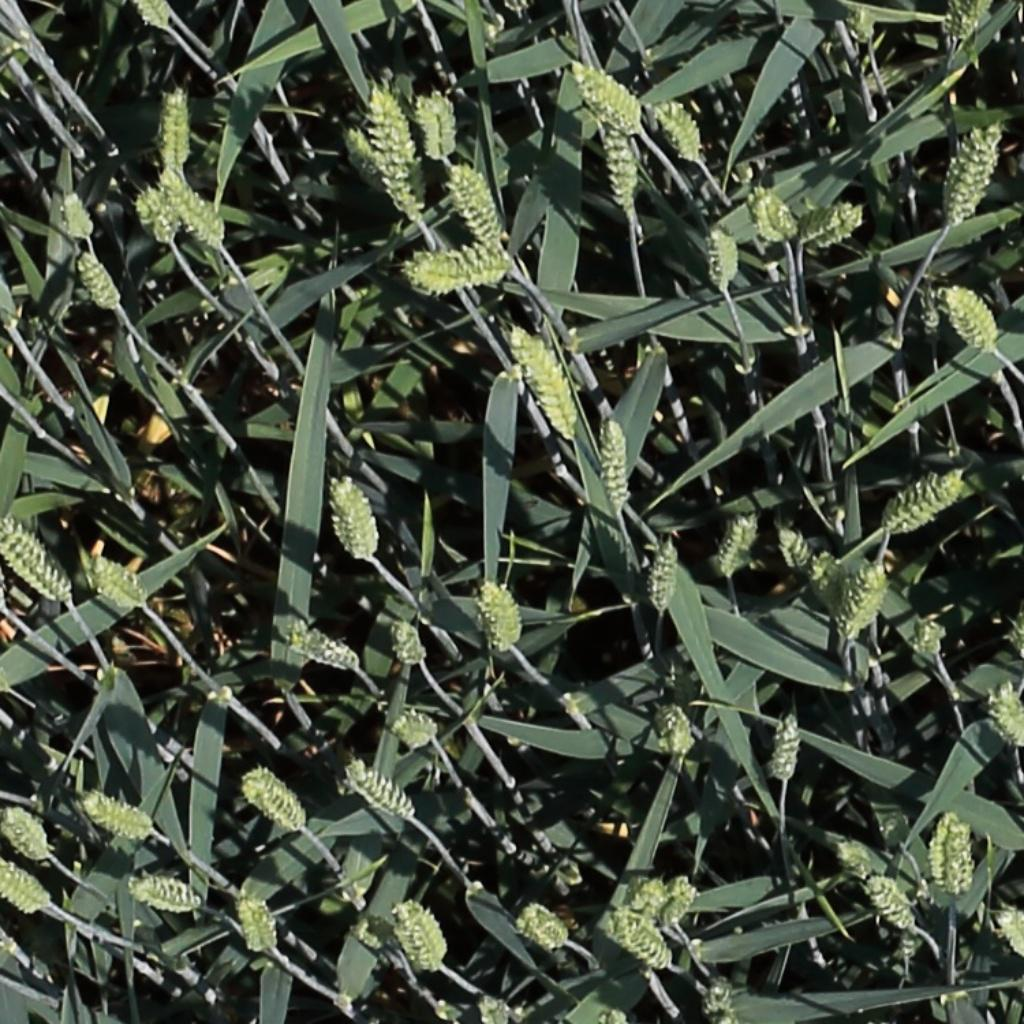0-0: (510, 322, 581, 441), (370, 84, 421, 217), (0, 517, 73, 604), (944, 120, 1000, 226), (158, 165, 229, 248), (887, 466, 968, 535), (570, 61, 645, 135), (447, 159, 506, 249), (409, 246, 515, 296), (346, 760, 417, 824), (610, 906, 675, 972), (845, 554, 894, 640), (943, 281, 1002, 352), (334, 473, 379, 566), (652, 92, 708, 165), (243, 774, 308, 835), (341, 120, 393, 196), (393, 897, 442, 977), (73, 244, 124, 315), (286, 623, 360, 671), (866, 875, 922, 937), (81, 795, 155, 841), (750, 178, 800, 245), (480, 576, 520, 659), (90, 554, 150, 608), (0, 805, 53, 866), (718, 507, 759, 584), (606, 113, 637, 214), (931, 808, 963, 901), (798, 203, 865, 247), (237, 888, 277, 961), (940, 812, 972, 903), (603, 412, 630, 518), (136, 181, 178, 248), (416, 87, 454, 161), (987, 681, 1024, 756), (0, 864, 50, 914), (652, 533, 681, 618), (774, 708, 804, 790), (659, 875, 701, 933), (709, 218, 740, 296), (520, 906, 572, 951), (826, 839, 883, 880), (58, 181, 95, 244), (163, 83, 188, 174), (125, 883, 203, 912), (390, 614, 427, 673), (629, 876, 670, 928), (393, 706, 437, 749), (842, 0, 880, 49), (995, 902, 1024, 962), (951, 0, 988, 47), (669, 701, 693, 765), (707, 970, 735, 1024), (136, 0, 176, 32), (476, 989, 512, 1024), (0, 658, 12, 694)
